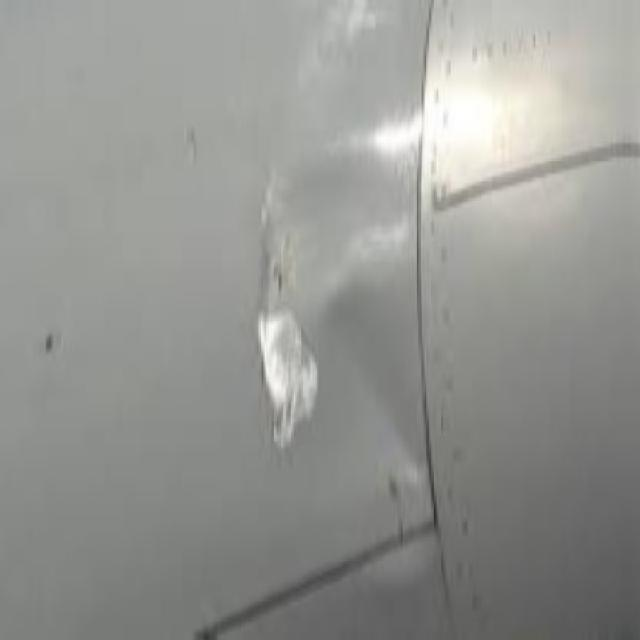dent: (254, 133, 322, 456)
